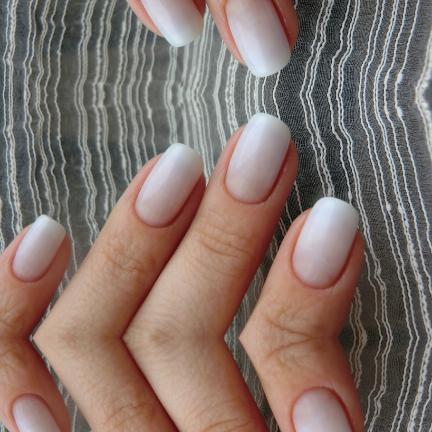Nail: (224, 112, 291, 202), (292, 196, 358, 287), (135, 142, 204, 226), (224, 0, 291, 76), (11, 213, 65, 282), (141, 0, 204, 46), (292, 387, 352, 432), (11, 393, 61, 432)
